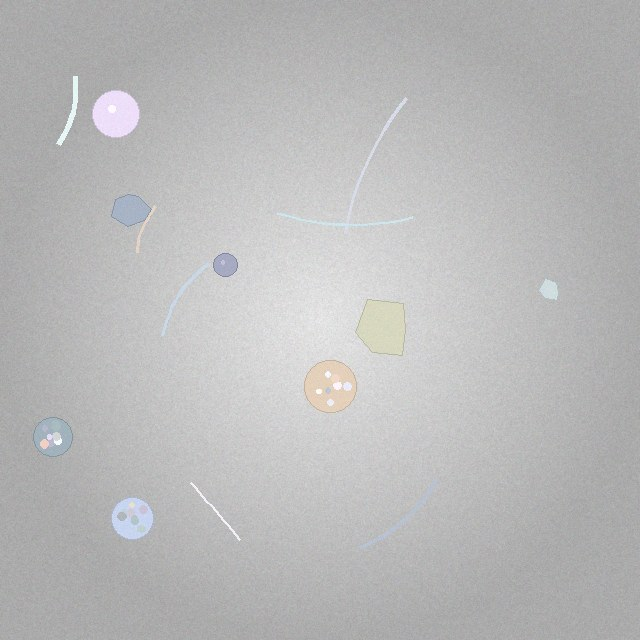fiber: (342, 95, 410, 237), (355, 475, 441, 553), (159, 260, 213, 339), (188, 479, 242, 542), (275, 210, 416, 228), (53, 71, 81, 150), (134, 204, 158, 255)
foam: (304, 360, 356, 412), (112, 498, 153, 539), (33, 418, 72, 457)
fragment: (355, 299, 406, 356), (112, 195, 151, 227), (538, 279, 559, 300)
pellet: (93, 91, 139, 137), (214, 253, 237, 276)
